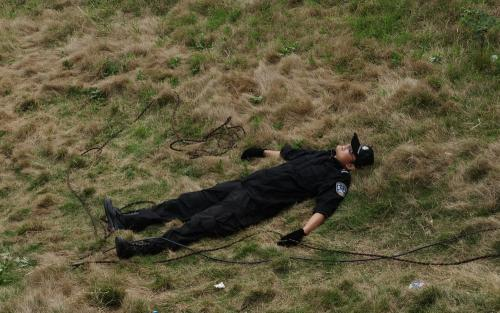fall: (90, 125, 374, 260)
